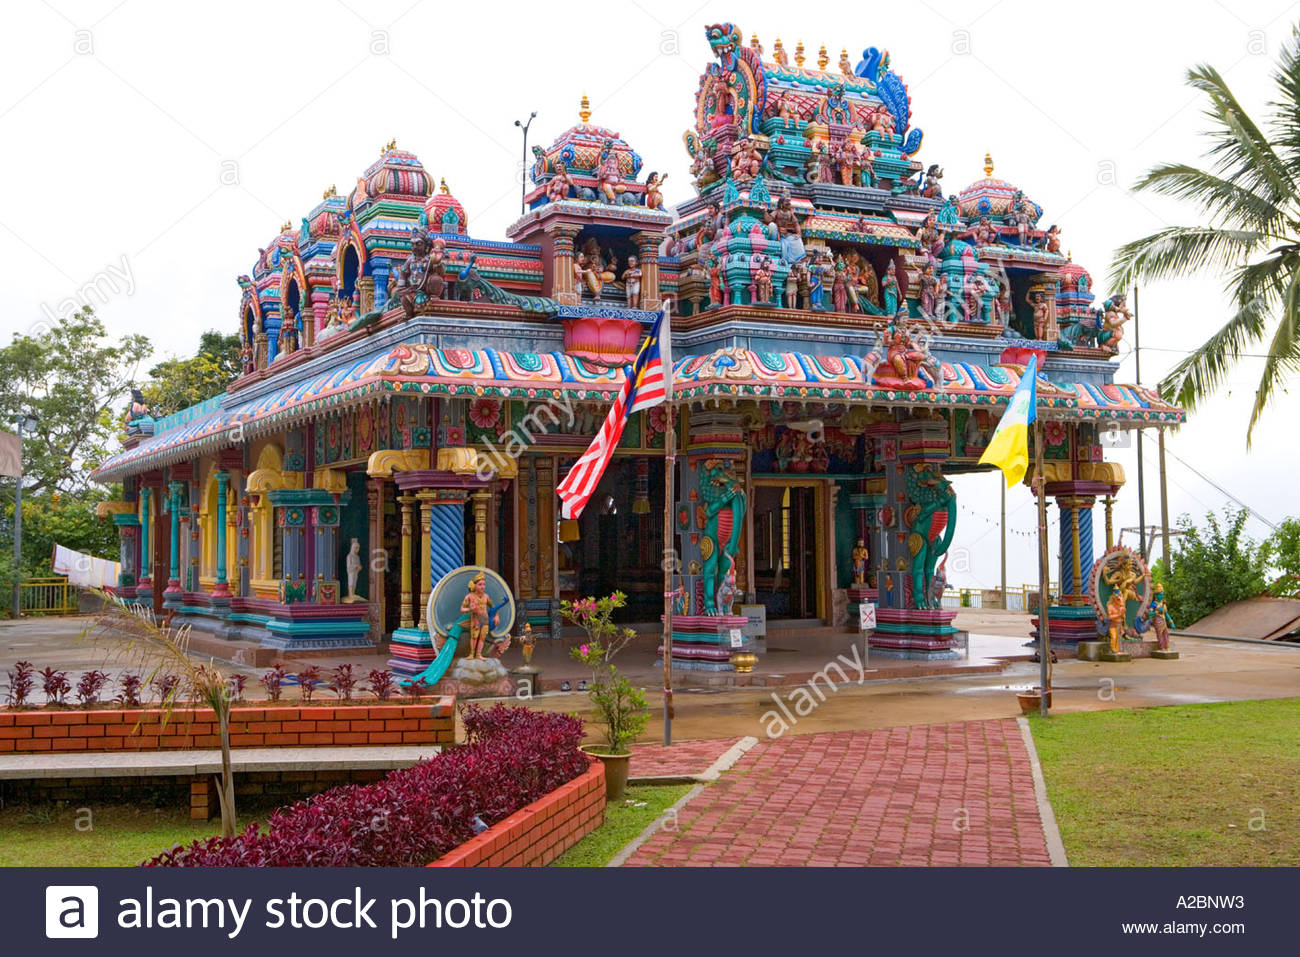Hindu Temple: (89, 13, 1156, 677)
